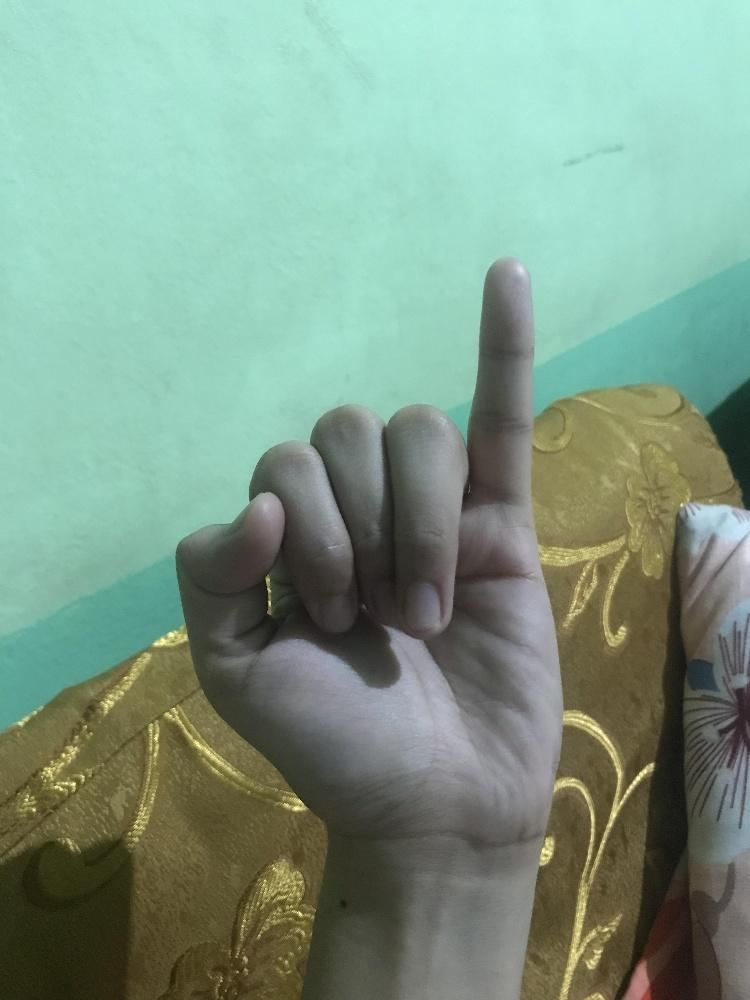i: (172, 247, 565, 856)
